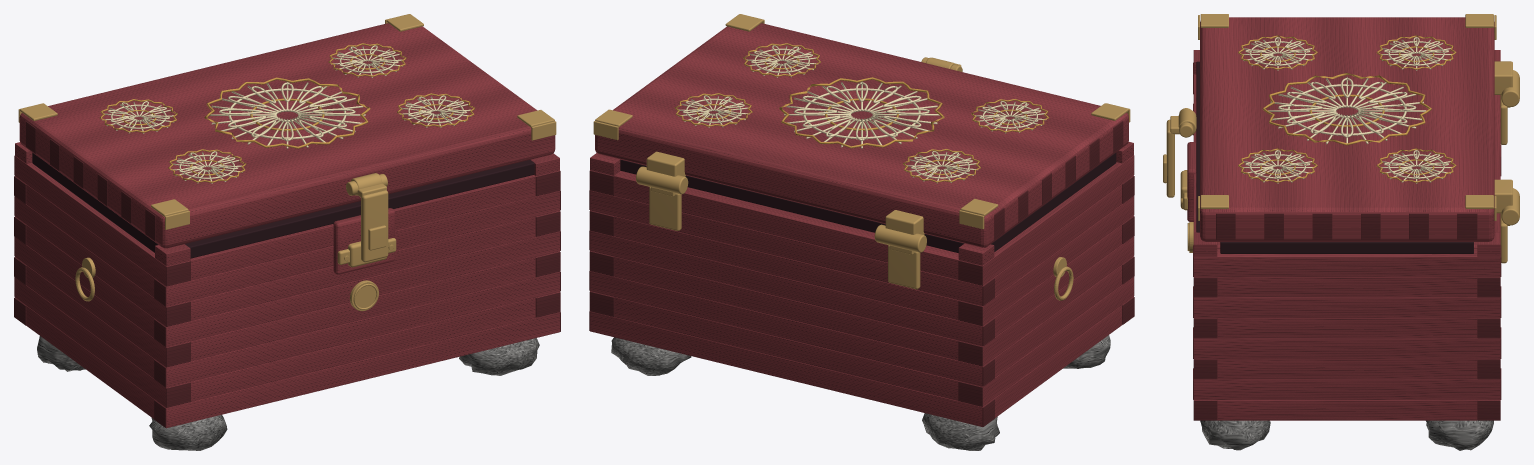
The model's file is paraguay.glb.
The picture shows the model from 3 angles, left to right: view 1: azimuth 30°, elevation 25°; view 2: azimuth 150°, elevation 25°; view 3: azimuth 270°, elevation 25°; orthographic projection.
Parts seen in each view (by area): view 1: Lid / polished slab, Wine timber / front course 0, Wine timber / front course 2, Wine timber / front course 4, Wine timber / front course 1, Wine timber / front course 3, Wine timber / front course 6, Wine timber / front course 5, Wine timber / front course 7, Mineral seam / long, Wine timber / side course 7, Wine timber / side course 1 (+16 smaller); view 2: Lid / polished slab, Wine timber / rear course 2, Wine timber / rear course 4, Wine timber / rear course 0, Wine timber / rear course 7, Wine timber / rear course 5, Wine timber / rear course 1, Wine timber / rear course 3, Wine timber / rear course 6, Wine timber / side course 7, Wine timber / side course 1, Wine timber / side course 3 (+20 smaller); view 3: Lid / polished slab, Wine timber / side course 7.001, Wine timber / side course 5.001, Wine timber / side course 3.001, Wine timber / side course 1.001, Wine timber / side course 6.001, Wine timber / side course 0.001, Wine timber / side course 2.001, Wine timber / side course 4.001, Mineral seam / side.001, Granite foot.002, Granite foot.003 (+35 smaller).
Part boxes in pixels (<box>): Lid / polished slab: <box>19,23,555,248</box>; Wine timber / front course 0: <box>155,312,559,428</box>; Wine timber / front course 2: <box>155,271,559,387</box>; Wine timber / front course 4: <box>155,231,559,347</box>; Wine timber / front course 1: <box>190,298,535,401</box>; Wine timber / front course 3: <box>190,257,535,361</box>; Wine timber / front course 6: <box>155,191,559,306</box>; Wine timber / front course 5: <box>190,217,535,320</box>; Wine timber / front course 7: <box>190,175,535,280</box>; Mineral seam / long: <box>185,159,534,258</box>; Wine timber / side course 7: <box>14,156,190,286</box>; Wine timber / side course 1: <box>14,277,190,407</box>; Lid / polished slab: <box>595,23,1128,247</box>; Wine timber / rear course 2: <box>590,271,994,386</box>; Wine timber / rear course 4: <box>590,230,994,346</box>; Wine timber / rear course 0: <box>590,311,993,426</box>; Wine timber / rear course 7: <box>614,171,958,279</box>; Wine timber / rear course 5: <box>614,216,958,320</box>; Wine timber / rear course 1: <box>614,297,958,400</box>; Wine timber / rear course 3: <box>614,256,958,360</box>; Wine timber / rear course 6: <box>590,190,993,305</box>; Wine timber / side course 7: <box>959,155,1133,285</box>; Wine timber / side course 1: <box>959,277,1133,406</box>; Wine timber / side course 3: <box>959,236,1133,366</box>; Lid / polished slab: <box>1200,17,1494,241</box>; Wine timber / side course 7.001: <box>1194,249,1500,277</box>; Wine timber / side course 5.001: <box>1194,297,1500,318</box>; Wine timber / side course 3.001: <box>1194,338,1500,359</box>; Wine timber / side course 1.001: <box>1194,379,1500,399</box>; Wine timber / side course 6.001: <box>1217,277,1477,297</box>; Wine timber / side course 0.001: <box>1217,400,1477,420</box>; Wine timber / side course 2.001: <box>1217,359,1477,379</box>; Wine timber / side course 4.001: <box>1217,318,1477,338</box>; Mineral seam / side.001: <box>1220,242,1473,253</box>; Granite foot.002: <box>1200,420,1270,450</box>; Granite foot.003: <box>1426,420,1493,450</box>.
Bounding box in the file's own units: 3.79 × 2.34 × 2.88.
7 materials, 3 textured.
